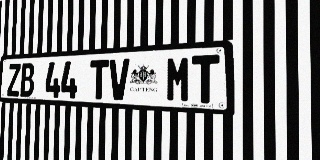4: (61, 61, 78, 99), (45, 62, 61, 98)
B: (20, 63, 35, 97)
M: (166, 56, 191, 103)
T: (192, 54, 219, 104), (90, 59, 109, 100)
V: (109, 59, 129, 101)
Z: (7, 63, 21, 97)
